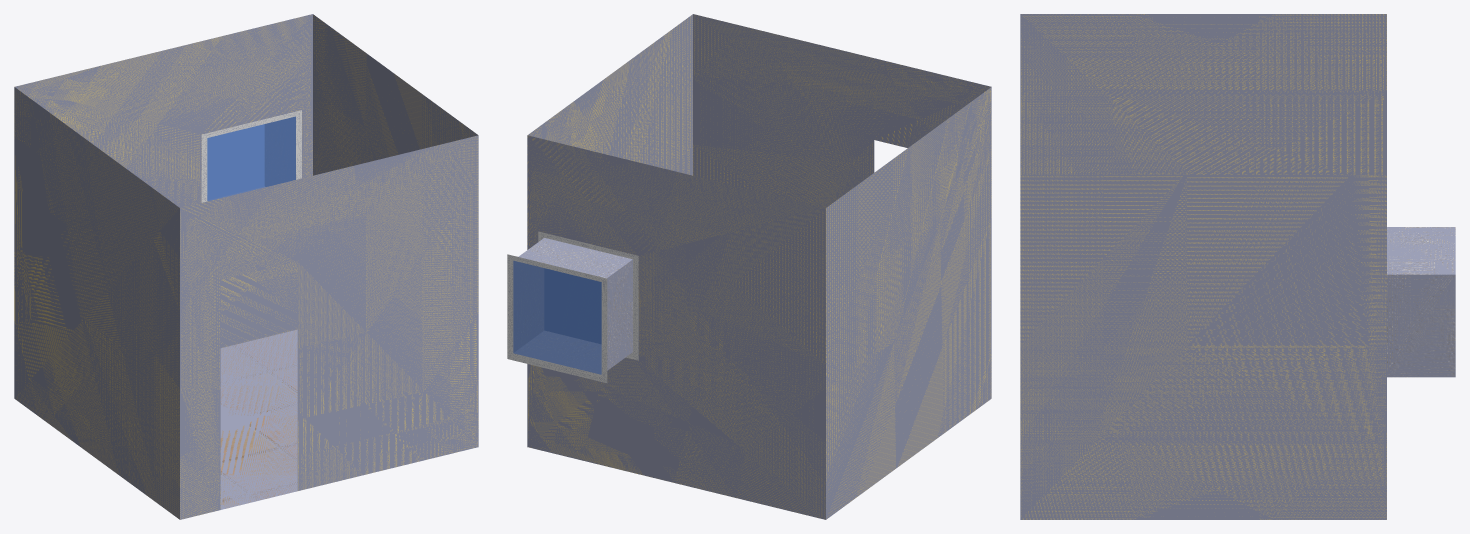
File: DES017.obj
The picture shows the model from 3 angles, left to right: view 1: azimuth 30°, elevation 25°; view 2: azimuth 150°, elevation 25°; view 3: azimuth 270°, elevation 25°; orthographic projection. The views are drawn at different scales.
Visible parts, largest first — view 1: Mesh5 DES017 Model, Mesh1 Group1 DES017 Model; view 2: Mesh5 DES017 Model, Mesh1 Group1 DES017 Model; view 3: Mesh5 DES017 Model, Mesh1 Group1 DES017 Model.
Boxes of the visible parts, x1,y1,x2,y2 form: Mesh5 DES017 Model: (14,14,478,519); Mesh1 Group1 DES017 Model: (201,110,301,202); Mesh5 DES017 Model: (527,14,991,519); Mesh1 Group1 DES017 Model: (507,231,638,383); Mesh5 DES017 Model: (1020,14,1386,519); Mesh1 Group1 DES017 Model: (1387,227,1455,377).
Bounding box in the file's own units: 3.01 × 3 × 3.44.
6 materials, 2 textured.
